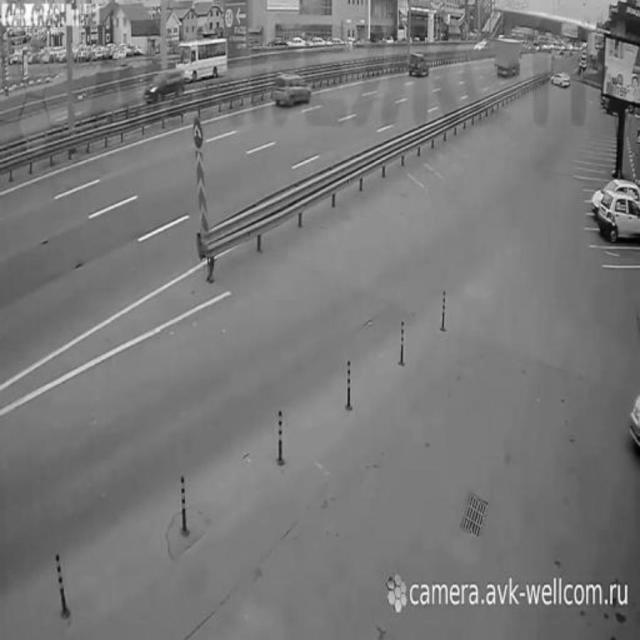vehicle: (595, 188, 640, 244), (179, 39, 230, 76), (269, 70, 315, 110), (146, 65, 188, 105), (493, 33, 523, 78), (408, 50, 434, 78), (550, 67, 572, 93)
